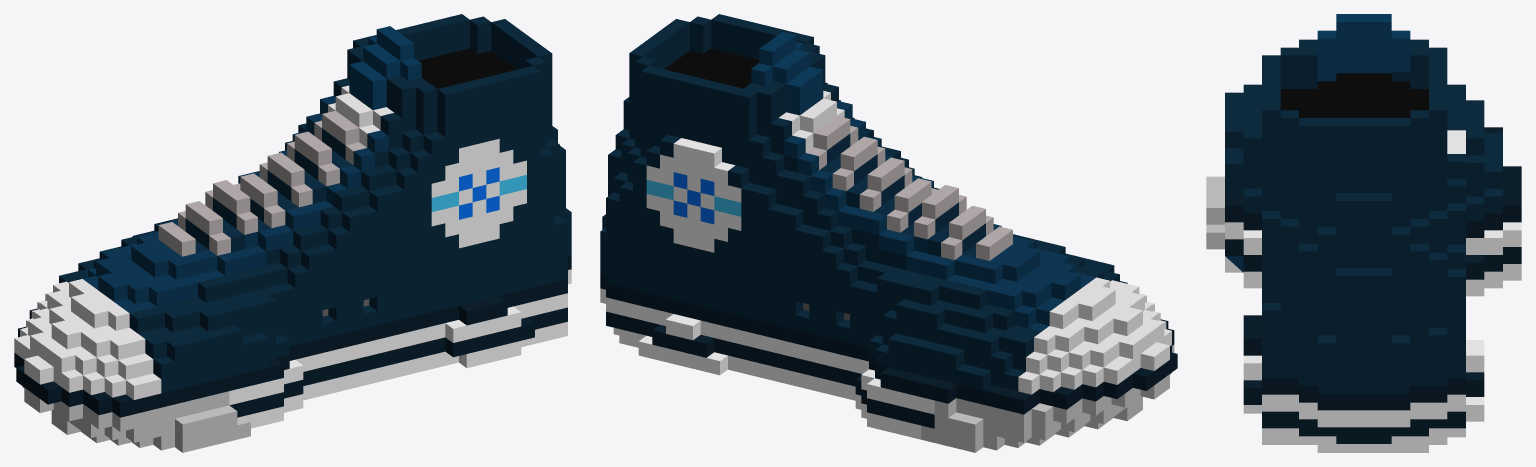
Rendered from Denim.fbx.
3 views of the same model, side by side, from view 1: azimuth 30°, elevation 25°; view 2: azimuth 150°, elevation 25°; view 3: azimuth 270°, elevation 25° (orthographic). The views are drawn at different scales.
Parts seen in each view (by area): view 1: Untitled; view 2: Untitled; view 3: Untitled.
Boxes of the visible parts, bbox=[...] form: Untitled: bbox=[14, 14, 571, 452]; Untitled: bbox=[600, 14, 1177, 452]; Untitled: bbox=[1206, 14, 1521, 452].
Size of the model in its own units: 390 by 210 by 170.
